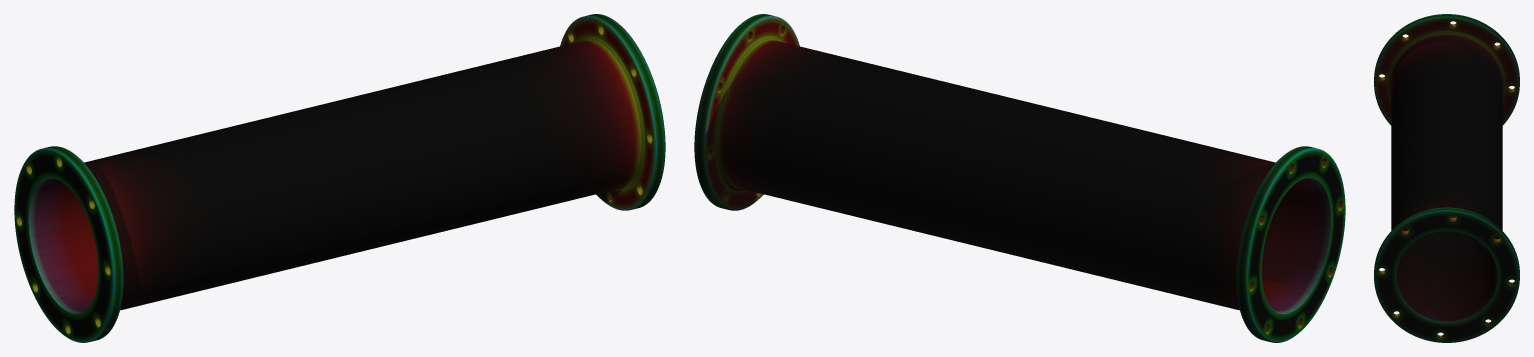
File: Pipe2.fbx
3 renders of one model, left to right at view 1: azimuth 30°, elevation 25°; view 2: azimuth 150°, elevation 25°; view 3: azimuth 270°, elevation 25°, orthographic. The views are drawn at different scales.
Parts seen in each view (by area): view 1: Cylinder.025; view 2: Cylinder.025; view 3: Cylinder.025.
Boxes of the visible parts, <box> form: Cylinder.025: <box>14,14,665,342</box>; Cylinder.025: <box>694,14,1345,342</box>; Cylinder.025: <box>1374,14,1519,342</box>.
Size of the model in its own units: 543 by 169 by 169.
